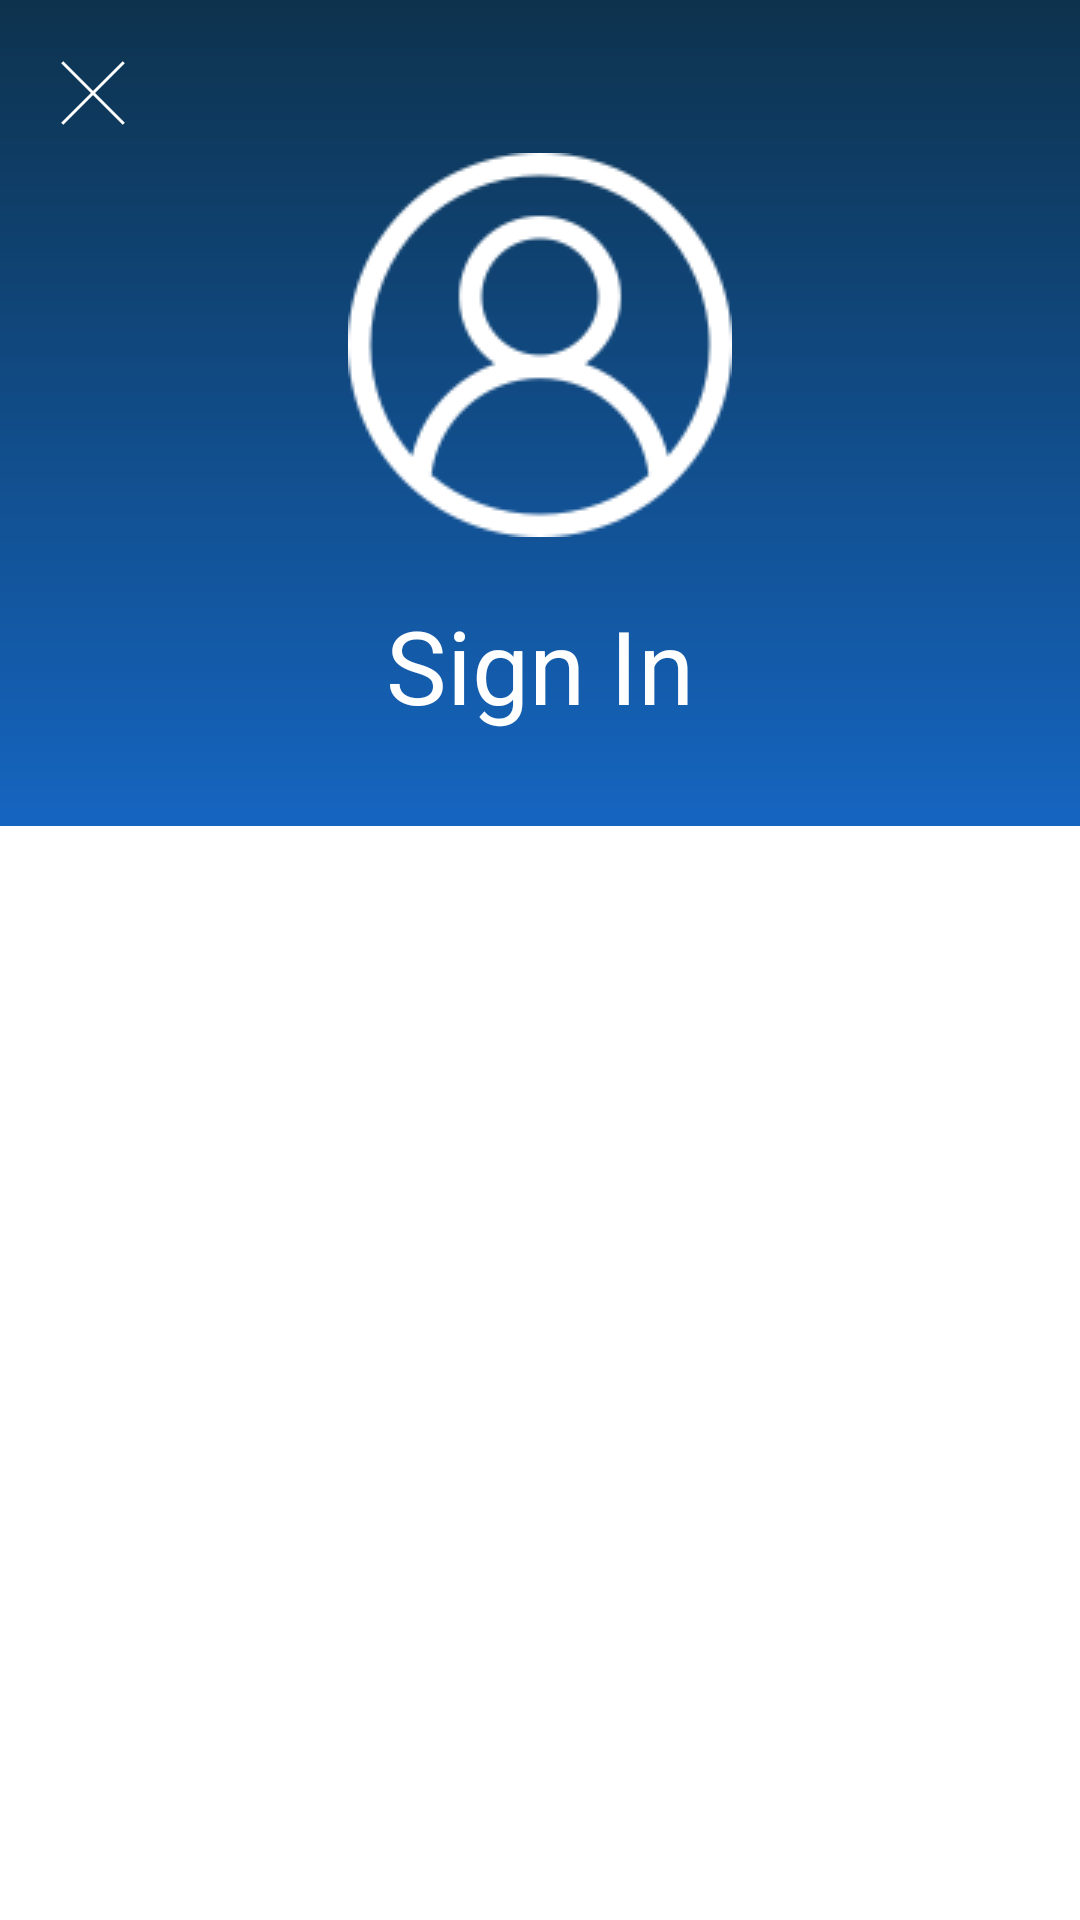

Icons on this 1080*1920 Android screen, each with the point to tap as point (x, y):
close: point (93, 93)
